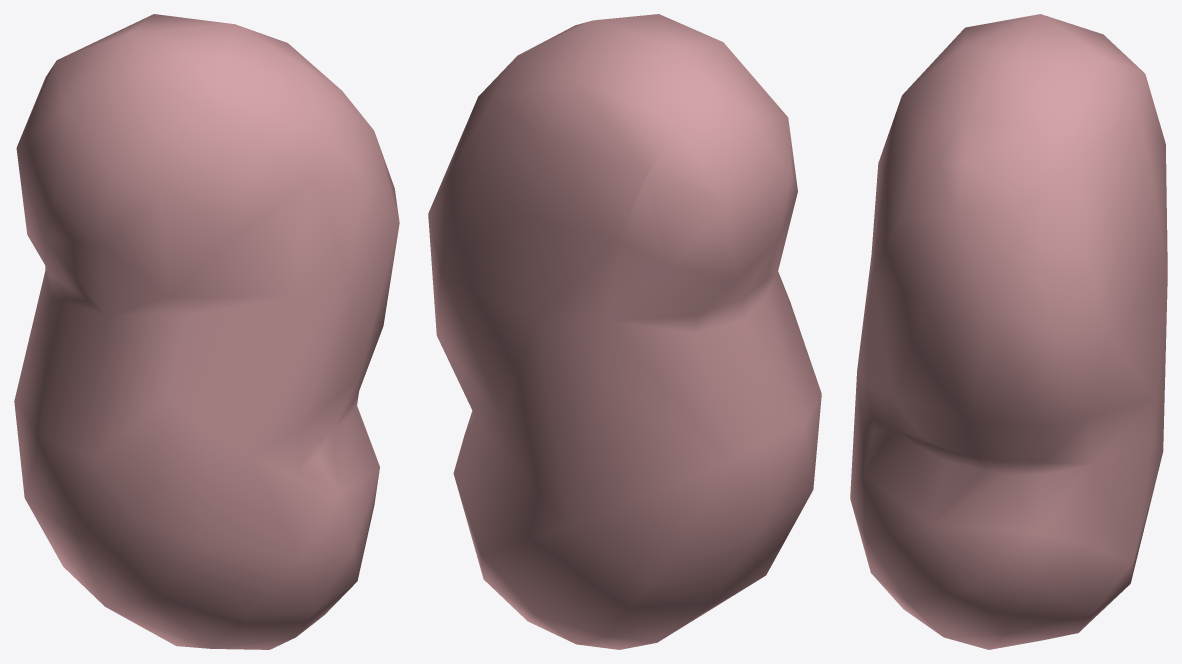
File: fma14966_fj2587.glb
The picture shows the model from 3 angles, left to right: view 1: azimuth 30°, elevation 25°; view 2: azimuth 150°, elevation 25°; view 3: azimuth 270°, elevation 25°; orthographic projection. The views are drawn at different scales.
Parts seen in each view (by area): view 1: FMA14966_FJ2587; view 2: FMA14966_FJ2587; view 3: FMA14966_FJ2587.
Part boxes in pixels (<box>): FMA14966_FJ2587: <box>14,14,399,649</box>; FMA14966_FJ2587: <box>428,14,821,649</box>; FMA14966_FJ2587: <box>850,14,1167,649</box>.
Bounding box in the file's own units: 0.0267 × 0.0447 × 0.0219.
